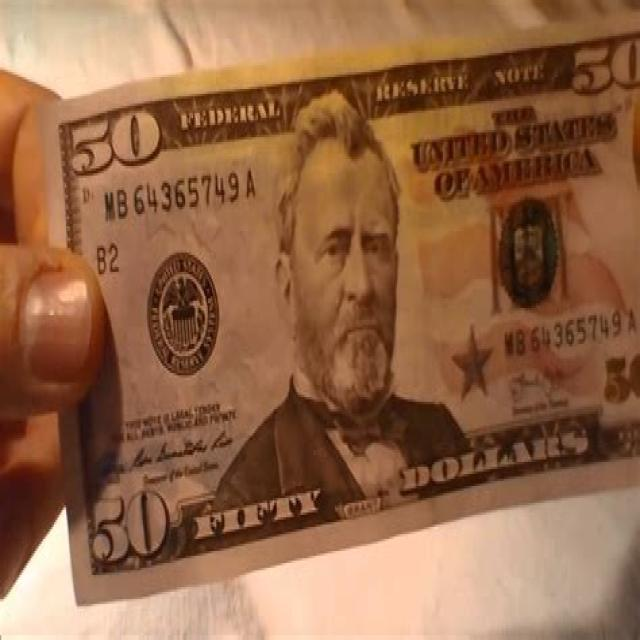Fifty: (43, 27, 640, 604)
